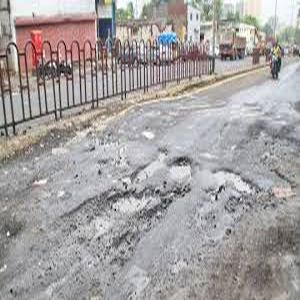pothole: (136, 153, 197, 187), (110, 192, 180, 218)
